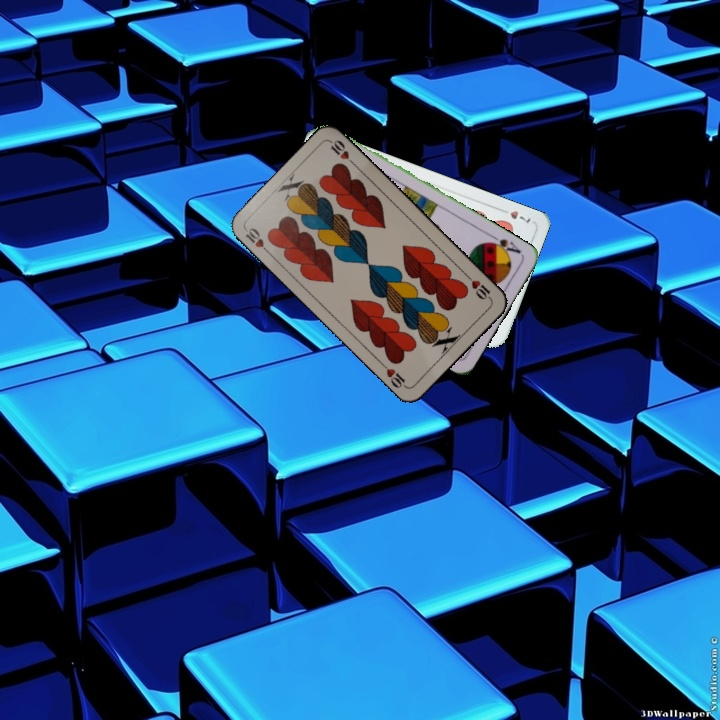H10: (461, 270, 494, 303), (241, 224, 273, 257)
H7: (495, 204, 533, 225)
SA: (484, 231, 523, 259)
